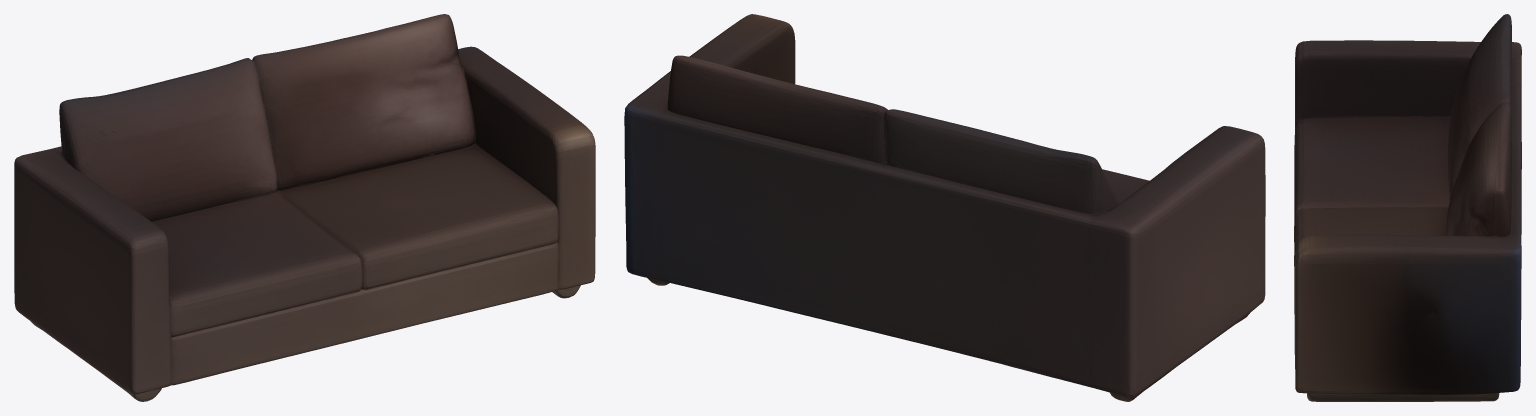
3 renders of one model, left to right at view 1: azimuth 30°, elevation 25°; view 2: azimuth 150°, elevation 25°; view 3: azimuth 270°, elevation 25°, orthographic. The views are drawn at different scales.
Visible parts, largest first — view 1: world; view 2: world; view 3: world.
Part boxes in pixels (left/top/right/bottom): world: left=14, top=14, right=595, bottom=401; world: left=624, top=14, right=1265, bottom=401; world: left=1294, top=14, right=1521, bottom=401.
Bounding box in the file's own units: 1.9 × 0.85 × 0.859.
1 material, 1 textured.
